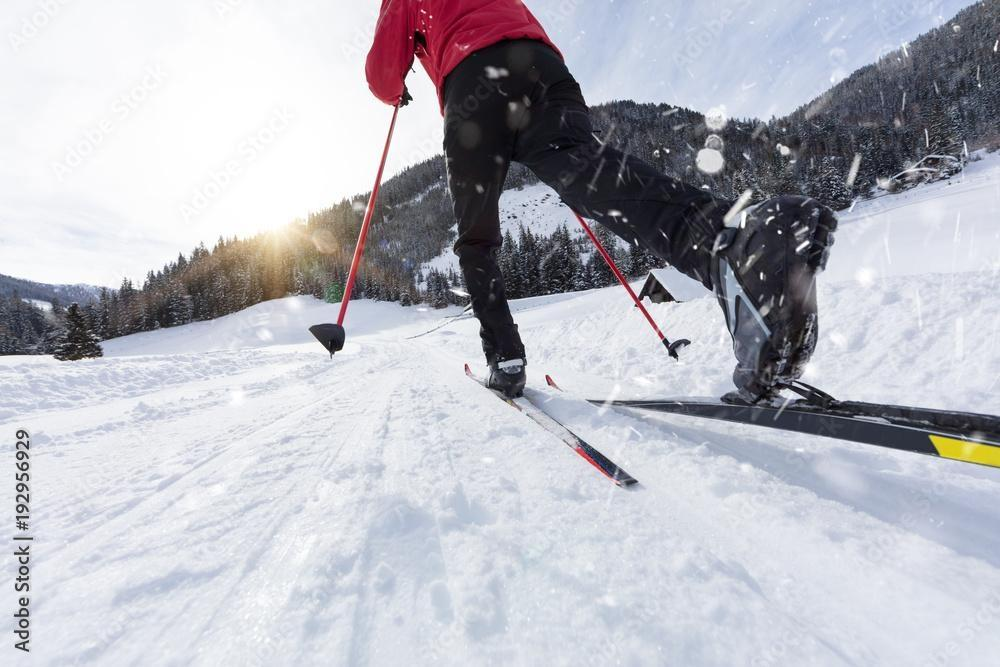Skis: (398, 326, 1000, 514)
